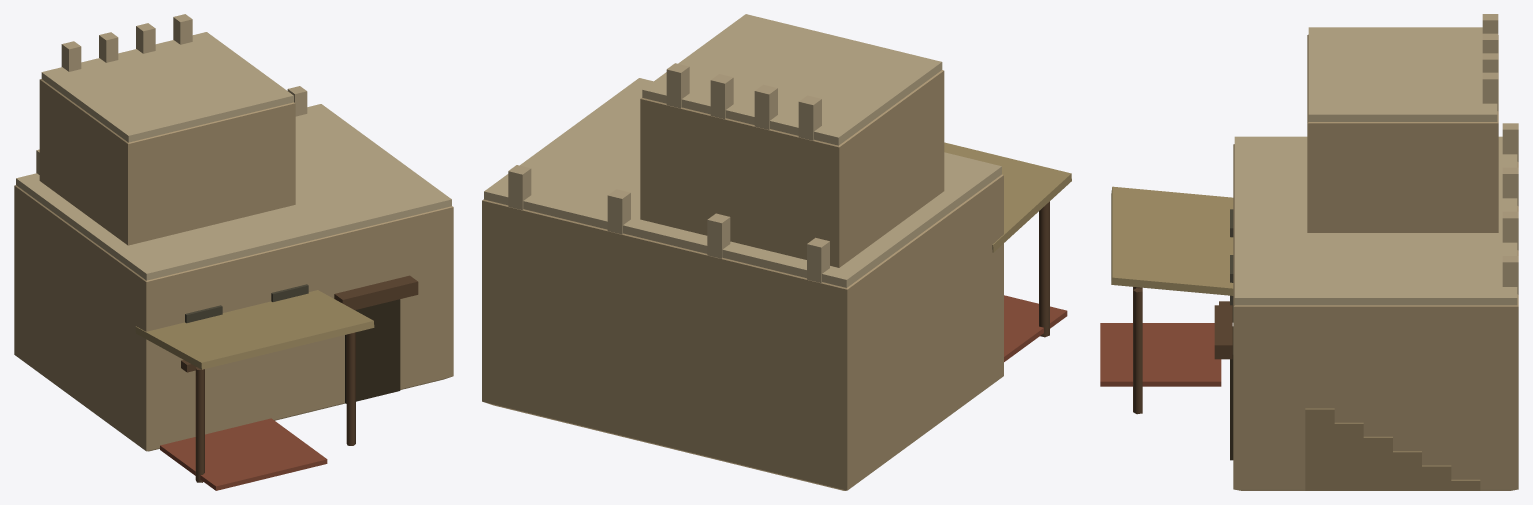
Rendered from adobe.glb.
3 renders of one model, left to right at view 1: azimuth 30°, elevation 25°; view 2: azimuth 150°, elevation 25°; view 3: azimuth 270°, elevation 25°, orthographic. The views are drawn at different scales.
Visible parts, largest first — view 1: adobe; view 2: adobe; view 3: adobe.
Boxes of the visible parts, x1,y1,x2,y2 form: adobe: [14, 14, 453, 490]; adobe: [482, 14, 1071, 490]; adobe: [1100, 14, 1518, 490].
Size of the model in its own units: 0.9271 by 0.8917 by 1.
